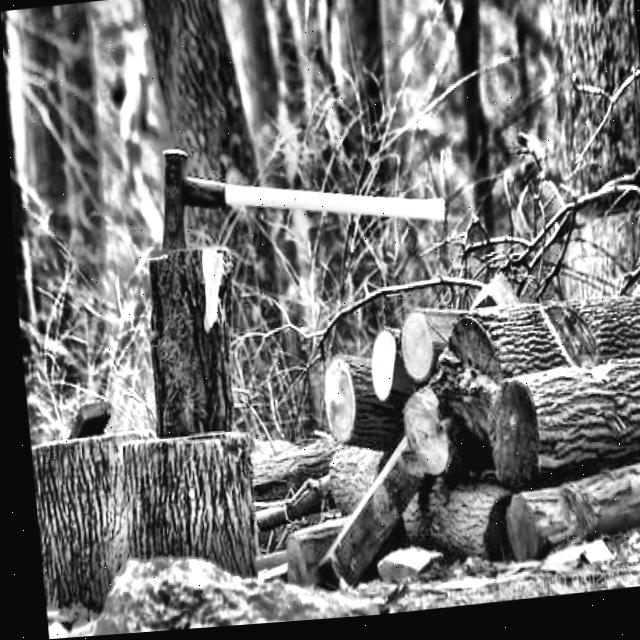kapak: (151, 129, 461, 266)
